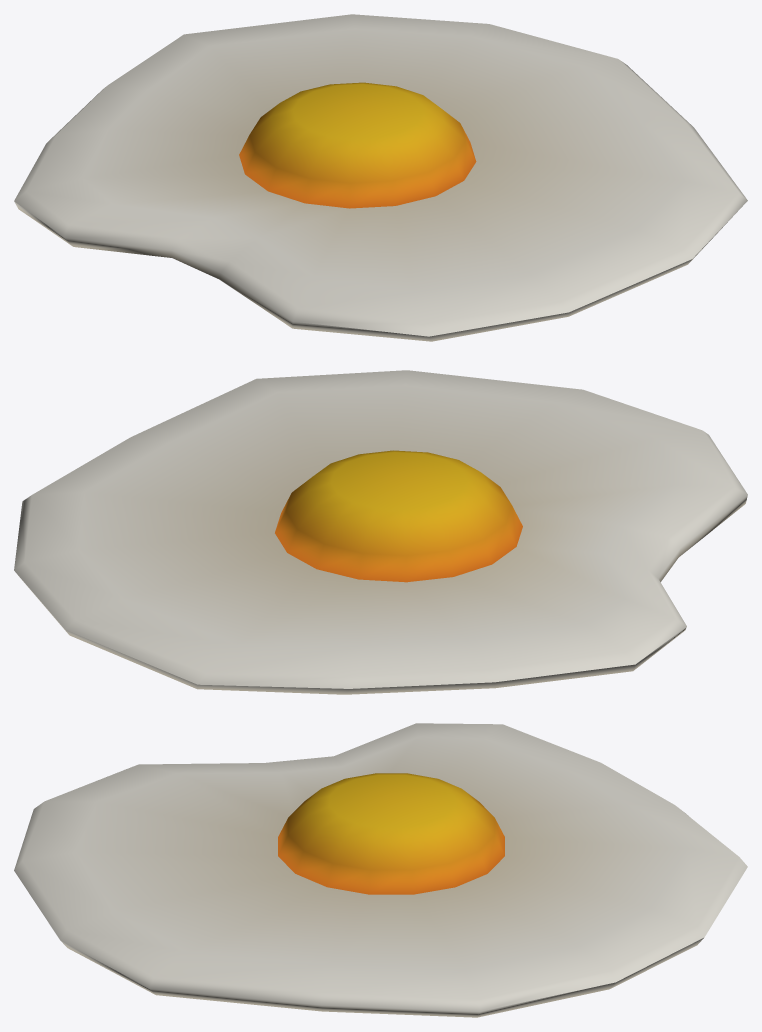
File: consumables-meatsdairy-friedegg_v1.glb
The picture shows the model from 3 angles, top to bottom: view 1: azimuth 30°, elevation 25°; view 2: azimuth 150°, elevation 25°; view 3: azimuth 270°, elevation 25°; orthographic projection. The views are drawn at different scales.
Parts seen in each view (by area): view 1: FriedEgg_v1; view 2: FriedEgg_v1; view 3: FriedEgg_v1.
Part boxes in pixels (x1,y1,x2,y2): FriedEgg_v1: [14, 14, 747, 341]; FriedEgg_v1: [14, 370, 747, 694]; FriedEgg_v1: [14, 723, 747, 1017].
Size of the model in its own units: 0.1313 by 0.016 by 0.1431.
